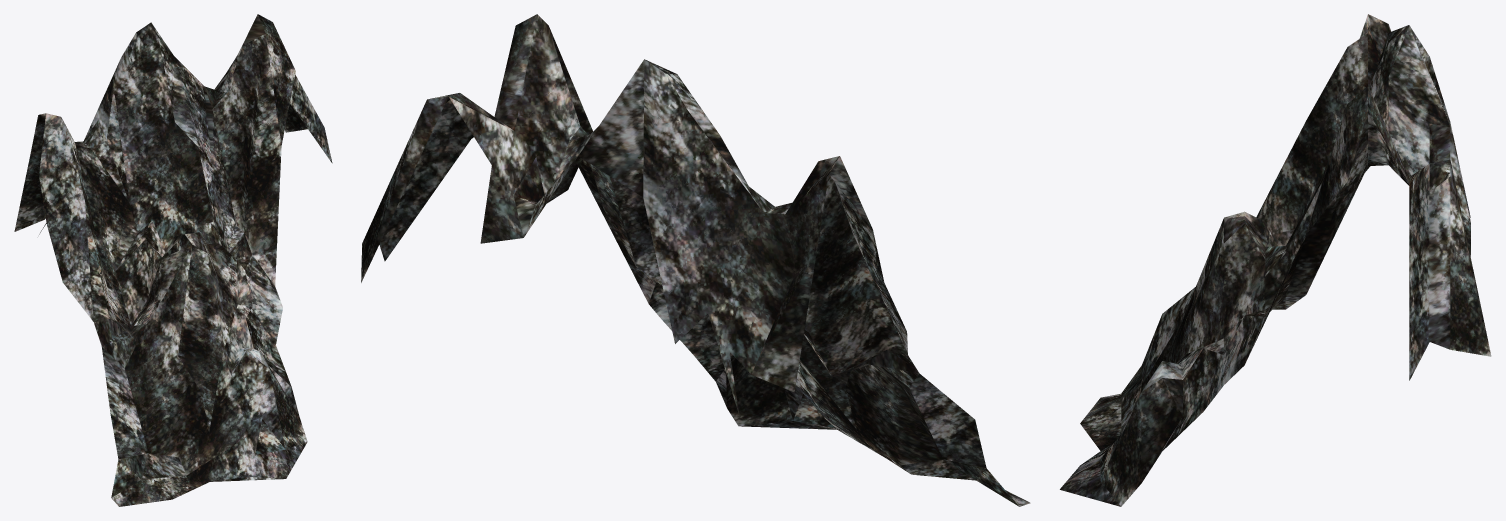
File: OVERHILL_A_01_OBJECT25.fbx
3 views of the same model, side by side, from view 1: azimuth 30°, elevation 25°; view 2: azimuth 150°, elevation 25°; view 3: azimuth 270°, elevation 25° (orthographic). The views are drawn at different scales.
Parts seen in each view (by area): view 1: OVERHILL_A_01_OBJECT25; view 2: OVERHILL_A_01_OBJECT25; view 3: OVERHILL_A_01_OBJECT25.
Part boxes in pixels (box(x1,y1,x2,y2)): OVERHILL_A_01_OBJECT25: box(14, 14, 332, 506); OVERHILL_A_01_OBJECT25: box(361, 14, 1030, 506); OVERHILL_A_01_OBJECT25: box(1060, 14, 1491, 506).
Bounding box in the file's own units: 301387 × 312306 × 261770.
1 material, 1 textured.
